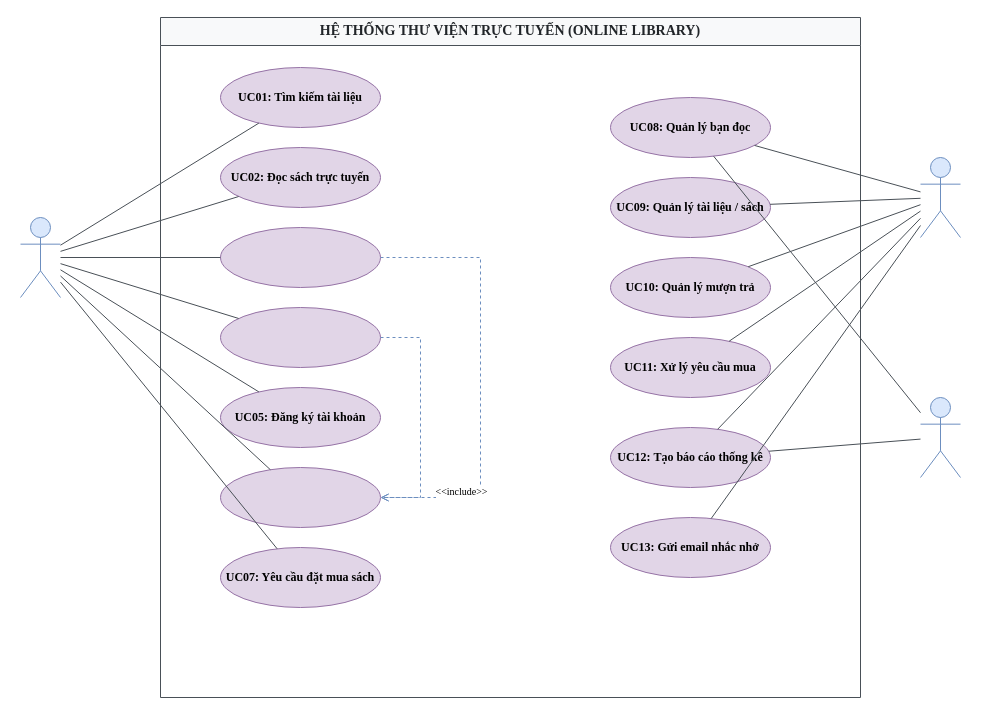
Some shapes in this 992 by 715 pixel diagram are drawn without their labels. The shapes that lost their labels are listed below. From the top down, each one's centre as x and y in pixels, then its label:
the point at 940,197: Thủ thư
the point at 40,257: Bạn đọc (Độc giả)
the point at 300,257: UC03: Tải tài liệu điện tử
the point at 300,337: UC04: Đăng ký mượn sách
the point at 940,437: Quản trị viên (Admin)
the point at 300,497: UC06: Đăng nhập
